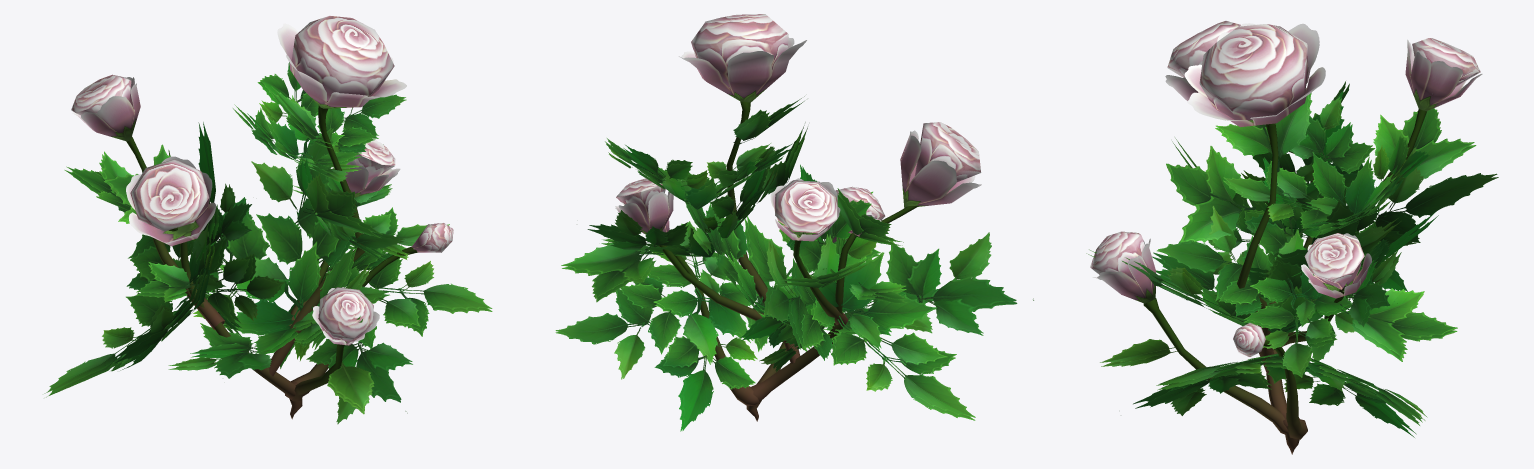
The model's file is SE_Rose_09.fbx.
The picture shows the model from 3 angles, left to right: view 1: azimuth 30°, elevation 25°; view 2: azimuth 150°, elevation 25°; view 3: azimuth 270°, elevation 25°; orthographic projection. The views are drawn at different scales.
Parts seen in each view (by area): view 1: SE_Rose_09; view 2: SE_Rose_09; view 3: SE_Rose_09.
Boxes of the visible parts, box(x1,y1,x2,y2) form: SE_Rose_09: box(44, 16, 492, 424); SE_Rose_09: box(555, 14, 1033, 431); SE_Rose_09: box(1086, 21, 1498, 454).
Bounding box in the file's own units: 4.61 × 4.06 × 3.62.
